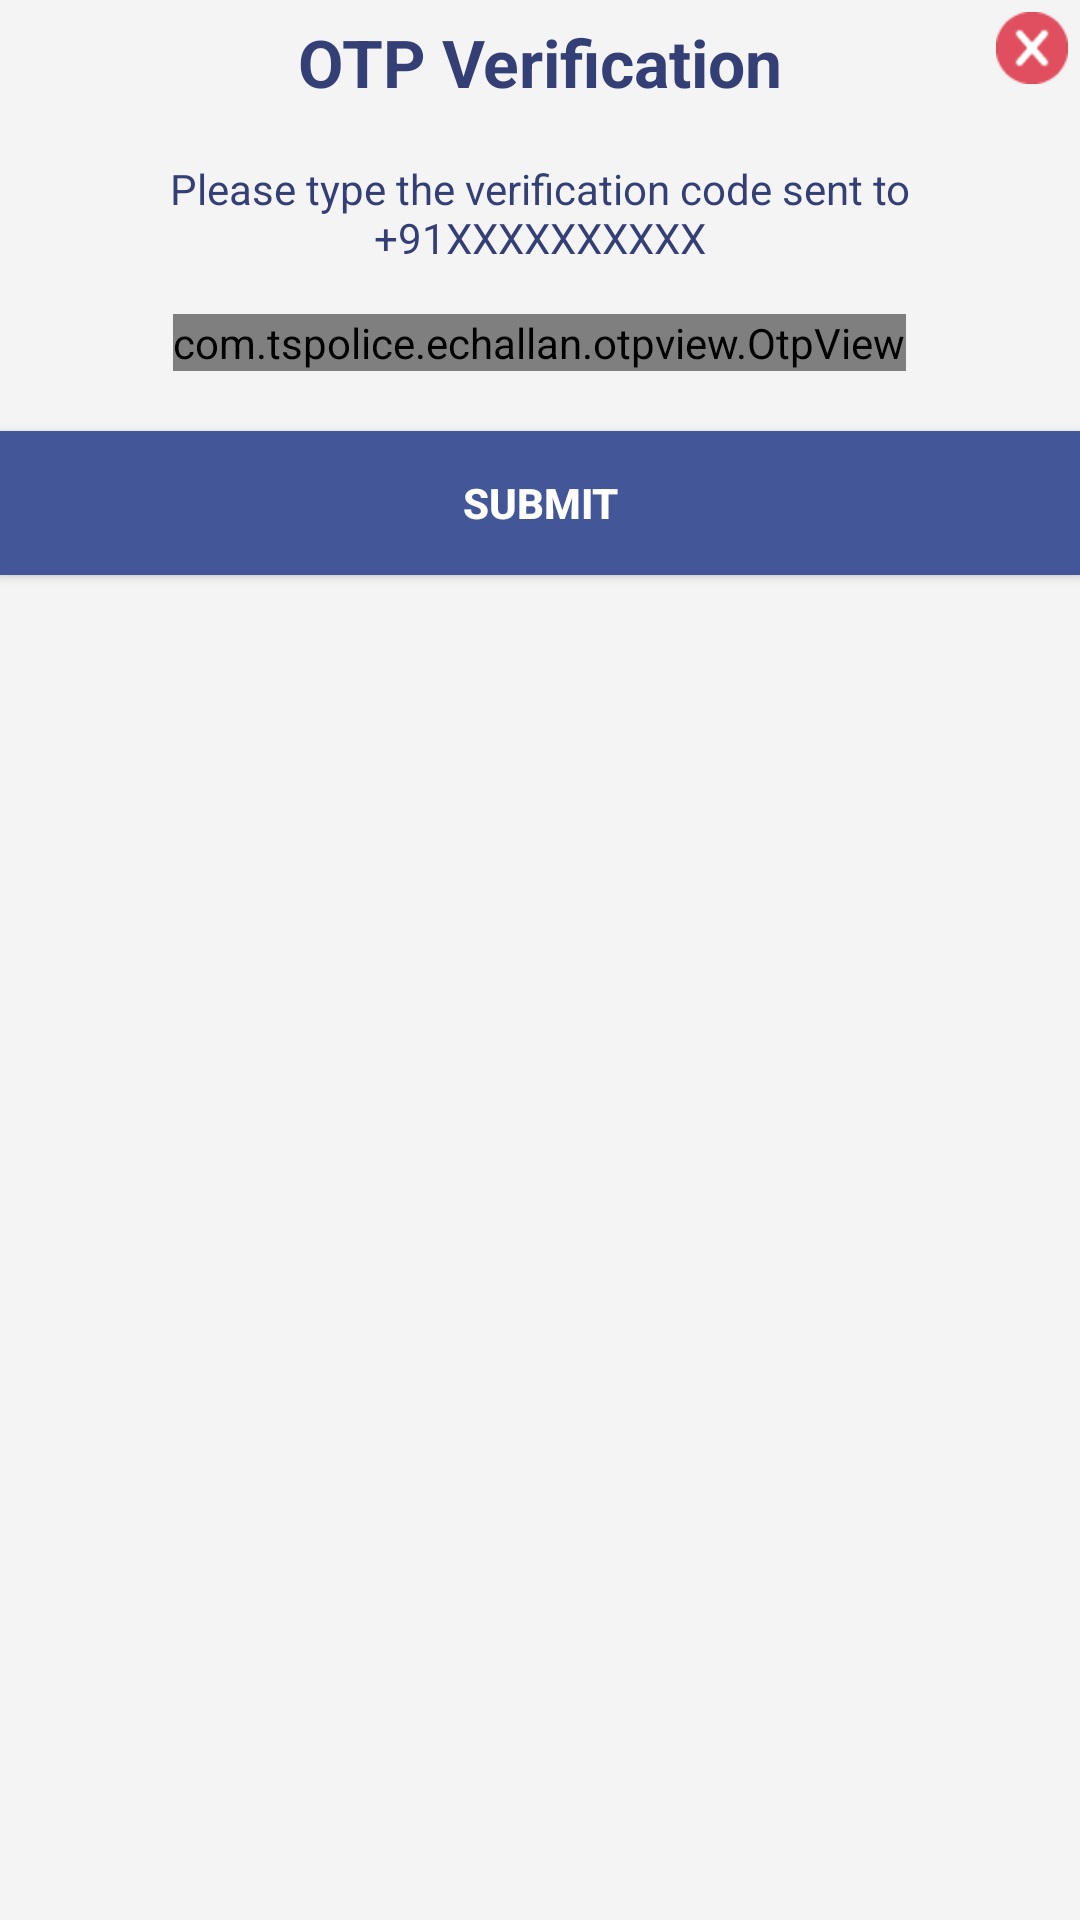

Where to tap for icons on this 1080px x 1920px app screen, as [x,y]:
close: [1032,48]
